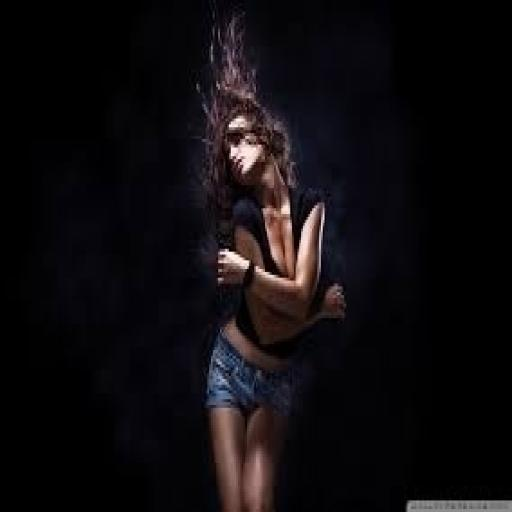dancing: (191, 12, 348, 509)
